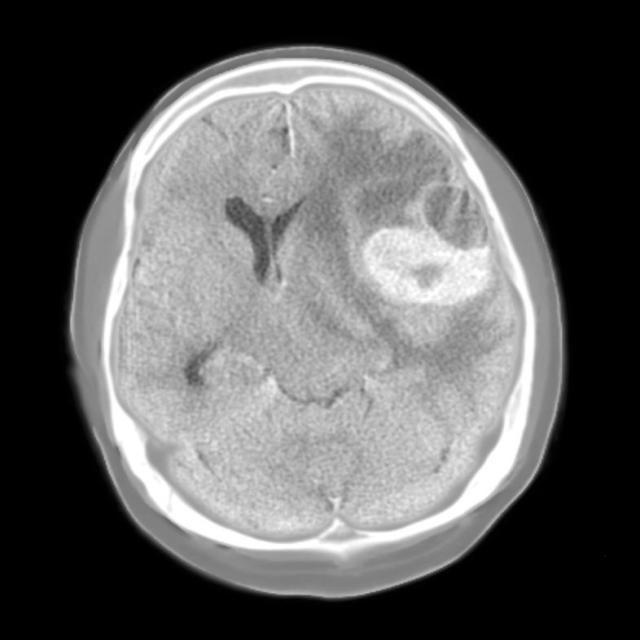Tumor: (372, 222, 482, 306)
